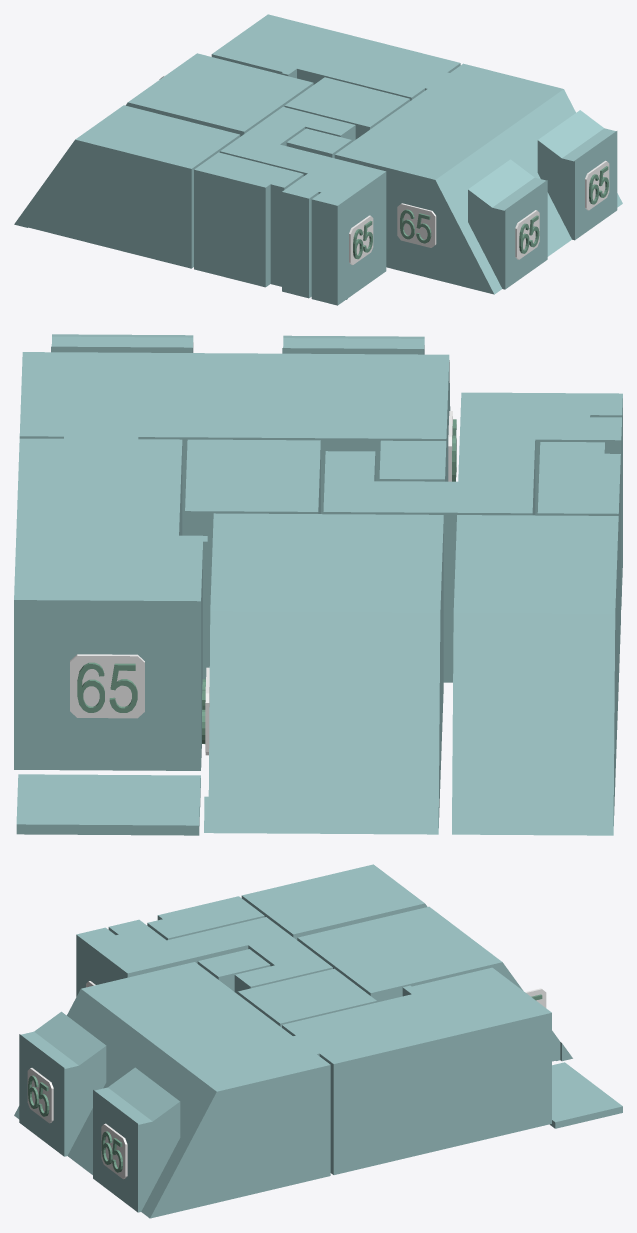
The picture shows the model from 3 angles, top to bottom: view 1: azimuth 30°, elevation 25°; view 2: azimuth 150°, elevation 25°; view 3: azimuth 270°, elevation 25°; orthographic projection. The views are drawn at different scales.
Visible parts, largest first — view 1: g_6, g_2, g_4, g_0, g_5, g_1, g_3, g_7, g_20, g_17, g_26, g_23; view 2: g_1, g_5, g_2, g_6, g_4, g_3, g_8, g_0, g_14, g_7, g_13, g_12; view 3: g_6, g_5, g_1, g_4, g_2, g_3, g_8, g_0, g_7, g_17, g_26.
Boxes of the visible parts, <box> form: g_6: <box>334,63,622,294</box>; g_2: <box>14,105,240,268</box>; g_4: <box>220,106,386,305</box>; g_0: <box>194,152,303,287</box>; g_5: <box>211,14,460,100</box>; g_1: <box>125,53,313,136</box>; g_3: <box>284,77,410,139</box>; g_7: <box>286,128,351,158</box>; g_20: <box>397,203,436,247</box>; g_17: <box>585,160,609,210</box>; g_26: <box>515,210,539,259</box>; g_23: <box>349,215,373,264</box>; g_1: <box>204,513,443,834</box>; g_5: <box>14,437,207,770</box>; g_2: <box>452,515,618,835</box>; g_6: <box>19,334,450,535</box>; g_4: <box>323,392,622,682</box>; g_3: <box>185,439,320,667</box>; g_8: <box>16,774,200,835</box>; g_0: <box>537,442,620,681</box>; g_14: <box>70,654,144,718</box>; g_7: <box>379,440,446,481</box>; g_13: <box>77,662,104,712</box>; g_12: <box>109,663,137,712</box>; g_6: <box>14,962,330,1218</box>; g_5: <box>282,967,551,1174</box>; g_1: <box>297,906,572,1061</box>; g_4: <box>76,917,332,996</box>; g_2: <box>241,864,427,939</box>; g_3: <box>237,968,376,1027</box>; g_8: <box>550,1062,622,1128</box>; g_0: <box>147,896,264,940</box>; g_7: <box>197,949,270,991</box>; g_17: <box>101,1123,127,1179</box>; g_26: <box>27,1068,53,1123</box>.
Bounding box in the file's own units: 12.75 × 2.71 × 12.64.
